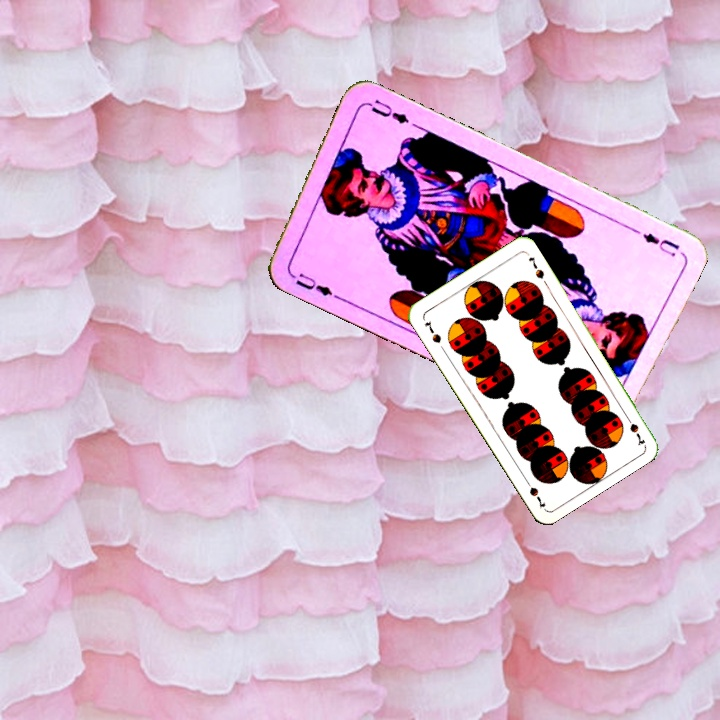EU: (285, 266, 340, 301), (638, 229, 682, 260)
S7: (621, 410, 647, 448), (420, 316, 444, 346)
